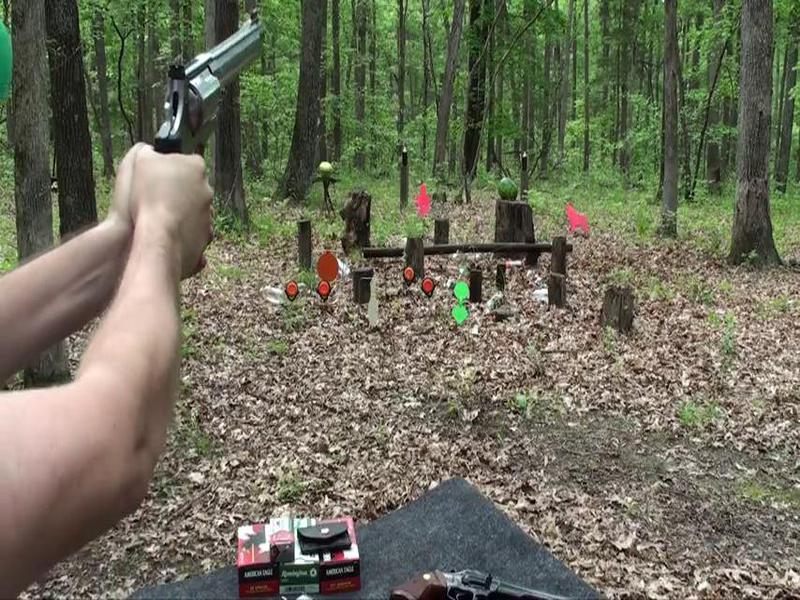Revolver: (127, 9, 272, 256)
